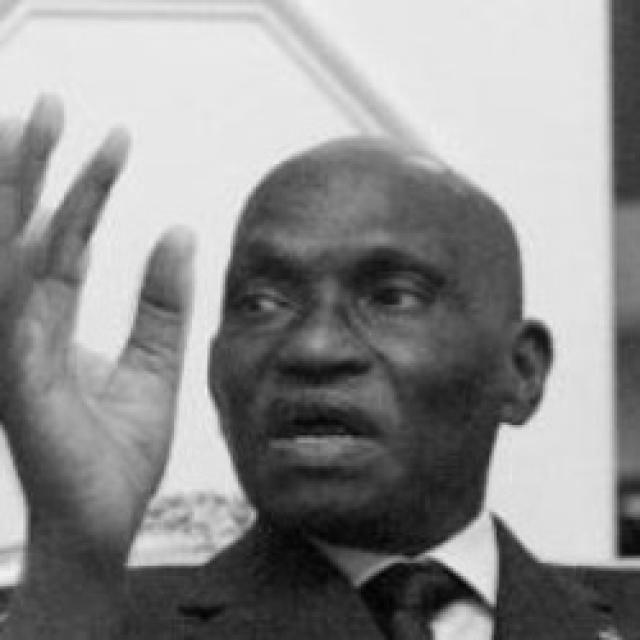real: (213, 140, 493, 529), (232, 270, 434, 330)
